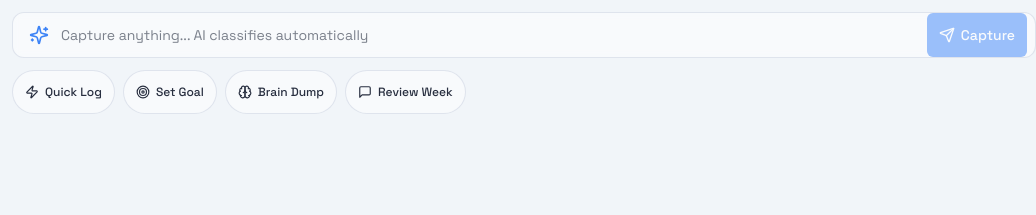
Test case: SmartCapture › should process input and show classification after submit
This screenshot has width=1036, height=215.
Step 1. Type "Study for concurso" into the field with placeholder "Capture anything... AI classifies automatically" → coordinates (488, 35), box top-left (49, 15), bottom-right (927, 55)
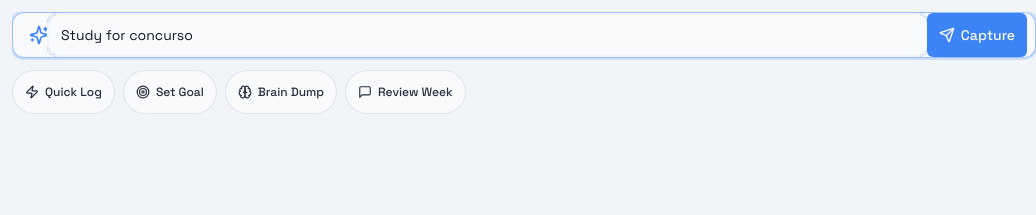
Step 2. Click the button "Capture" → coordinates (977, 35), box top-left (927, 13), bottom-right (1027, 57)
Wait 1300 ms
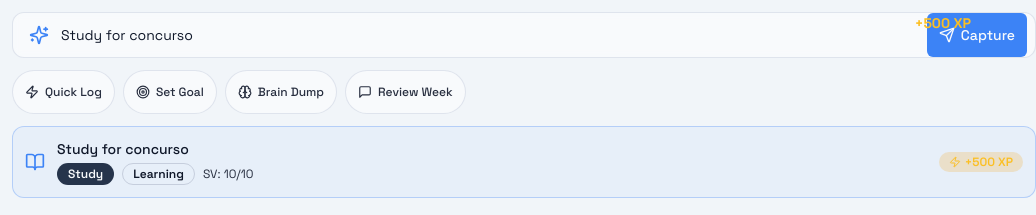
Expected: the text "study" is shown, top-left (57, 163), bottom-right (114, 185)
